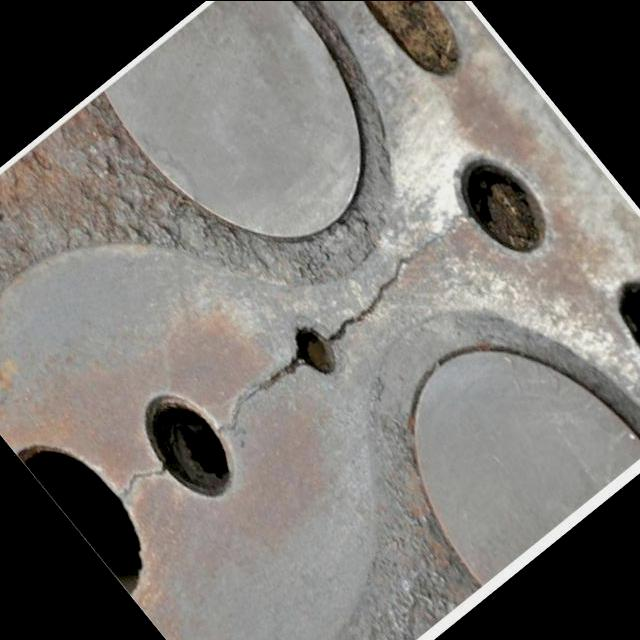defect: (326, 205, 480, 347), (216, 346, 313, 436), (117, 456, 169, 506)
